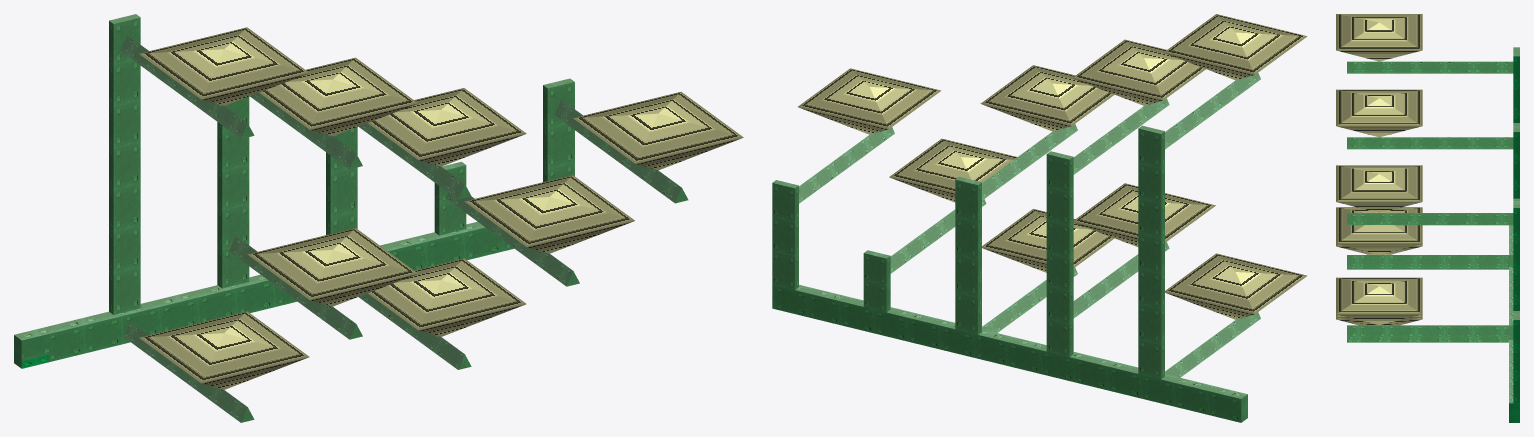
File: rc_dorifu1.glb
The picture shows the model from 3 angles, left to right: view 1: azimuth 30°, elevation 25°; view 2: azimuth 150°, elevation 25°; view 3: azimuth 270°, elevation 25°; orthographic projection. The views are drawn at different scales.
Parts seen in each view (by area): view 1: rc_dorifu1; view 2: rc_dorifu1; view 3: rc_dorifu1.
Part boxes in pixels (<box>): rc_dorifu1: <box>14,14,743,422</box>; rc_dorifu1: <box>772,14,1307,422</box>; rc_dorifu1: <box>1336,14,1519,422</box>.
Bounding box in the file's own units: 8.59 × 4.98 × 3.32.
2 materials, 2 textured.
